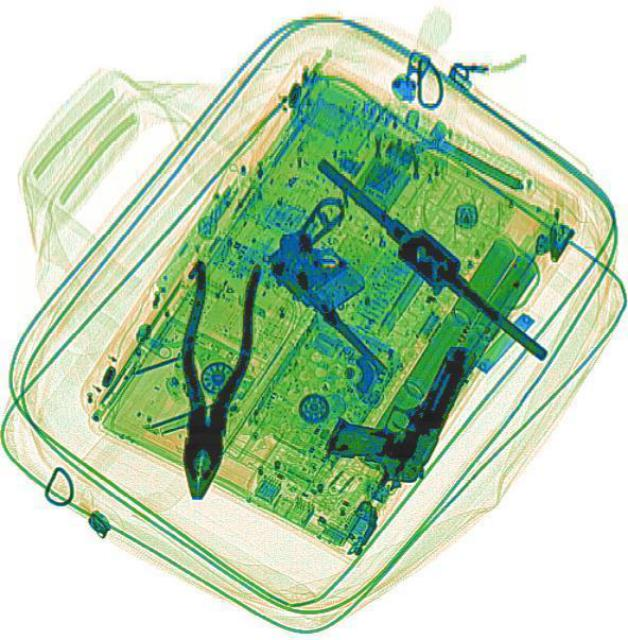Gun: (251, 188, 451, 380), (319, 313, 476, 491)
Pliers: (162, 255, 260, 501)
